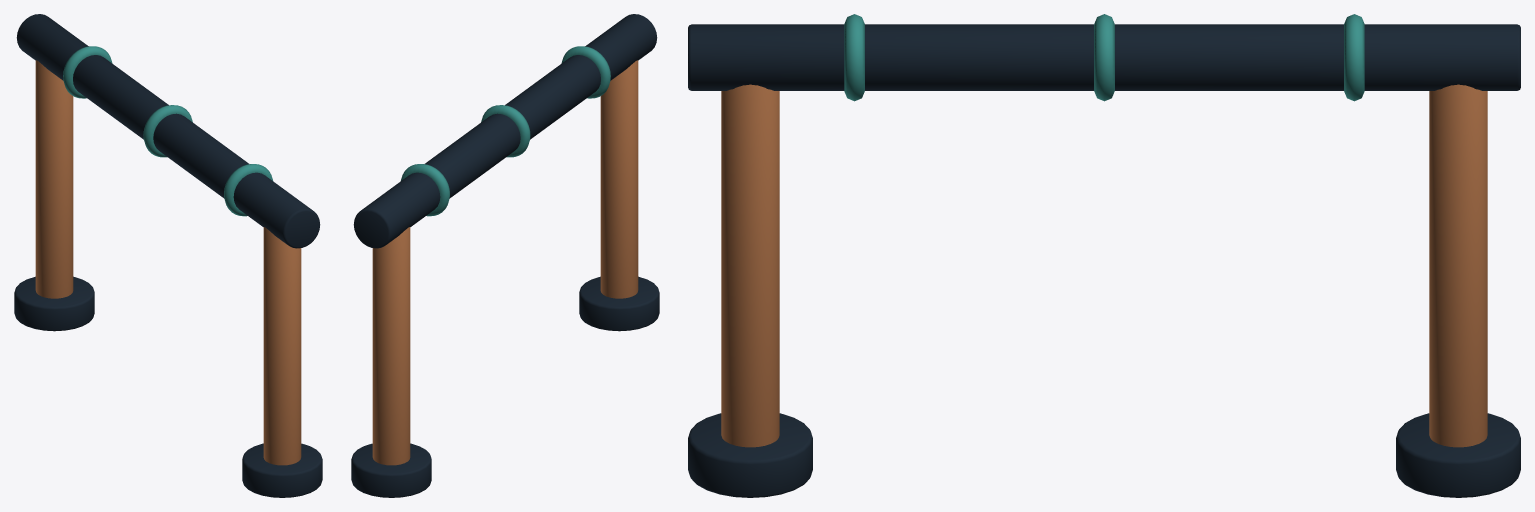
The picture shows the model from 3 angles, left to right: view 1: azimuth 30°, elevation 25°; view 2: azimuth 150°, elevation 25°; view 3: azimuth 270°, elevation 25°; orthographic projection. The views are drawn at different scales.
Visible parts, largest first — view 1: PR007_grip, PR007_post, PR007_post.001, PR007_foot.001, PR007_foot, PR007_insulation.001, PR007_insulation.002, PR007_insulation; view 2: PR007_grip, PR007_post.001, PR007_post, PR007_foot, PR007_foot.001, PR007_insulation, PR007_insulation.001, PR007_insulation.002; view 3: PR007_grip, PR007_post, PR007_post.001, PR007_foot, PR007_foot.001, PR007_insulation, PR007_insulation.001, PR007_insulation.002.
Boxes of the visible parts, bbox=[...] form: PR007_grip: bbox=[16, 14, 320, 248]; PR007_post: bbox=[263, 227, 301, 465]; PR007_post.001: bbox=[35, 60, 73, 298]; PR007_foot.001: bbox=[14, 276, 94, 331]; PR007_foot: bbox=[242, 443, 322, 497]; PR007_insulation.001: bbox=[143, 105, 192, 157]; PR007_insulation.002: bbox=[63, 46, 112, 98]; PR007_insulation: bbox=[224, 164, 272, 216]; PR007_grip: bbox=[353, 14, 657, 248]; PR007_post.001: bbox=[372, 227, 410, 465]; PR007_post: bbox=[600, 60, 638, 298]; PR007_foot: bbox=[579, 276, 659, 331]; PR007_foot.001: bbox=[351, 443, 431, 497]; PR007_insulation: bbox=[561, 46, 610, 98]; PR007_insulation.001: bbox=[481, 105, 530, 157]; PR007_insulation.002: bbox=[401, 164, 449, 216]; PR007_grip: bbox=[688, 24, 1520, 90]; PR007_post: bbox=[721, 84, 779, 447]; PR007_post.001: bbox=[1429, 84, 1487, 447]; PR007_foot: bbox=[688, 413, 812, 497]; PR007_foot.001: bbox=[1396, 413, 1520, 497]; PR007_insulation: bbox=[844, 14, 864, 101]; PR007_insulation.001: bbox=[1094, 14, 1114, 101]; PR007_insulation.002: bbox=[1344, 14, 1364, 101].
Bounding box in the file's own units: 0.3 × 1.21 × 2.
